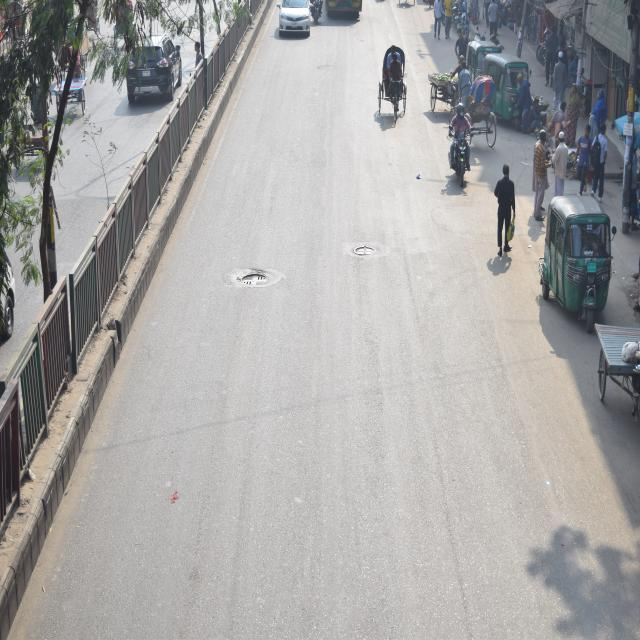car: (124, 28, 182, 102)
microbus: (273, 0, 313, 41)
motorbike: (448, 119, 477, 194), (310, 0, 322, 25)
